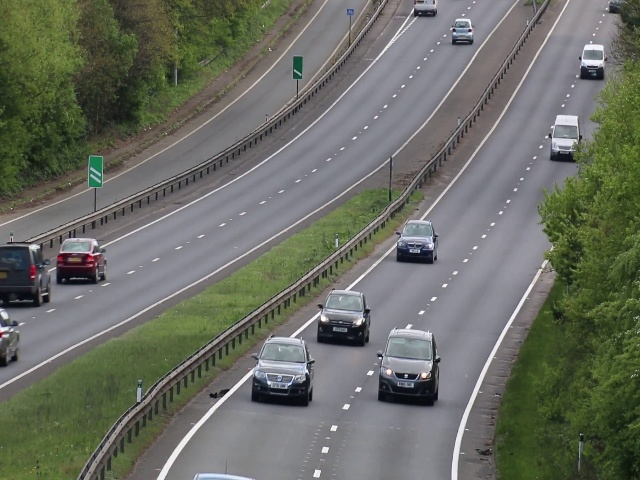car: (376, 327, 441, 406), (250, 335, 313, 409), (1, 241, 52, 307), (318, 287, 371, 347), (57, 236, 107, 287), (393, 217, 439, 265), (548, 114, 581, 161), (1, 303, 23, 363), (577, 41, 605, 81), (450, 15, 474, 45), (412, 1, 438, 18)
